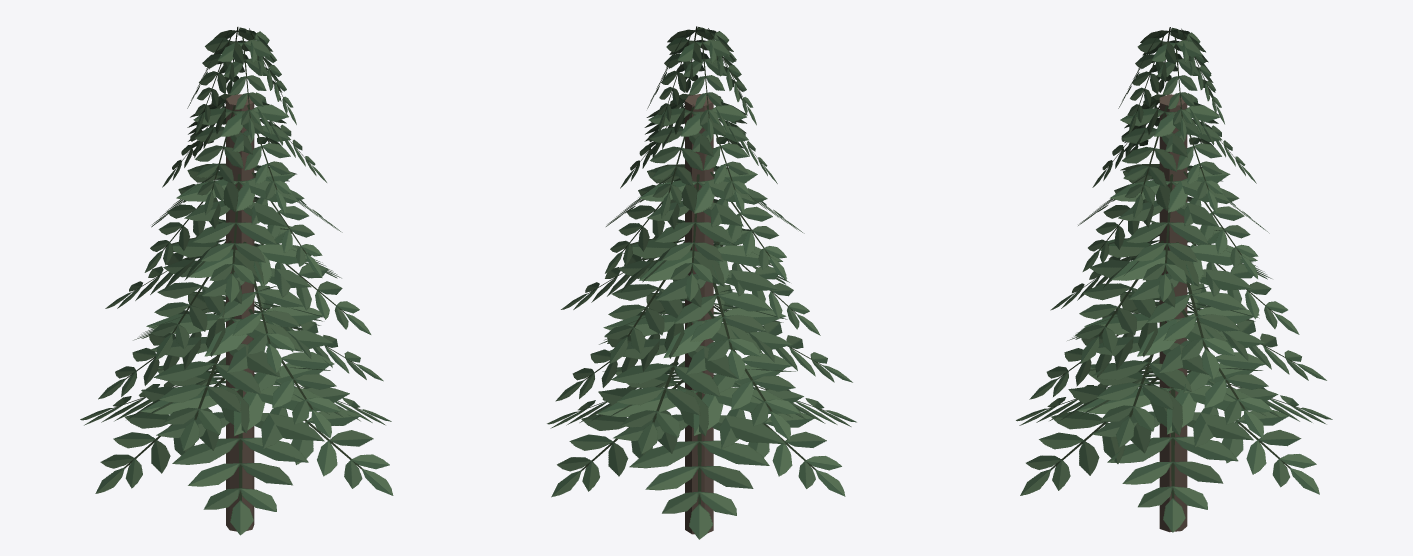
Rendered from pine.glb.
The picture shows the model from 3 angles, left to right: view 1: azimuth 30°, elevation 25°; view 2: azimuth 150°, elevation 25°; view 3: azimuth 270°, elevation 25°; orthographic projection.
Visible parts, largest first — view 1: Broad individual needle sprays, Trunk; view 2: Broad individual needle sprays, Trunk; view 3: Broad individual needle sprays, Trunk.
Boxes of the visible parts, left/top/right/bottom form: Broad individual needle sprays: left=80, top=27, right=393, bottom=535; Trunk: left=226, top=94, right=254, bottom=531; Broad individual needle sprays: left=547, top=26, right=856, bottom=539; Trunk: left=685, top=94, right=713, bottom=534; Broad individual needle sprays: left=1016, top=27, right=1332, bottom=532; Trunk: left=1159, top=94, right=1187, bottom=532.
Bounding box in the file's own units: 3.81 × 5.25 × 4.29.
Materials: 2 (1 with a texture image).
